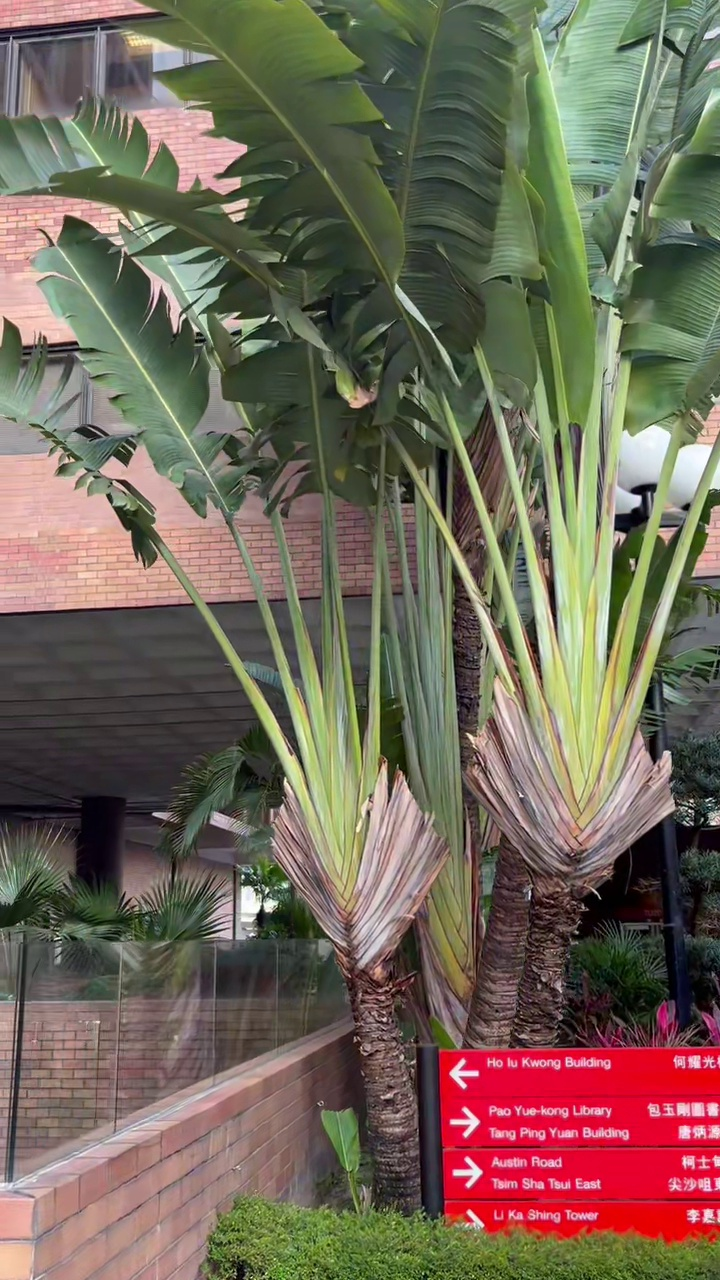Travellers-tree: (0, 0, 719, 1206)
